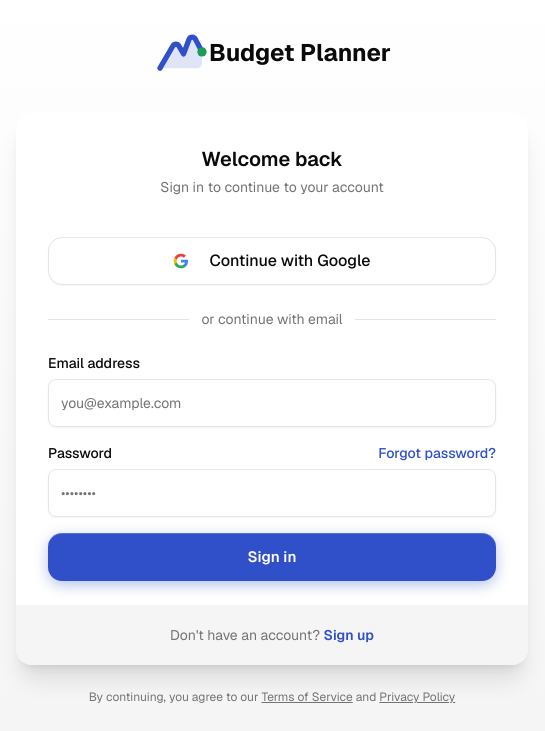
LoginPage — mode switching and resetForm › reveals signup-only fields when switching to signup
This screenshot has width=545, height=731.
Expected: the field labelled "First name" is not shown
Expected: the field labelled "Confirm password" is not shown
Click the button "Sign up": (349, 635) [324,625,374,645]
(page scrolled)
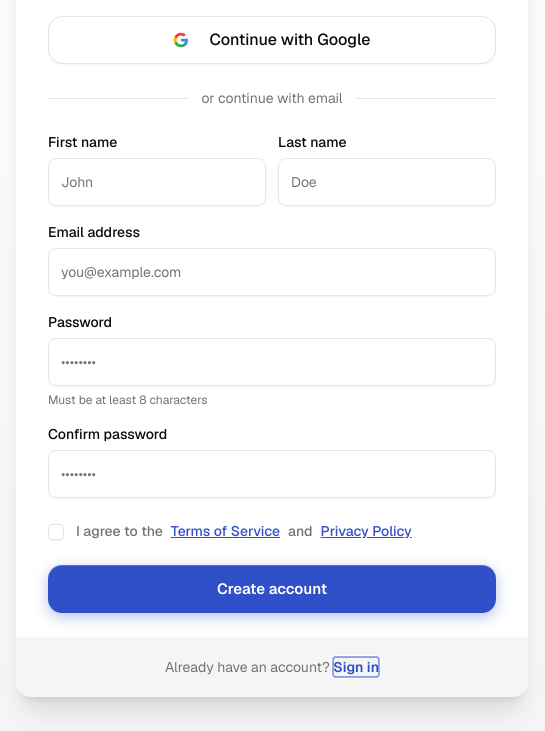
Now the field labelled "First name" is shown, box [48,158,266,206]
Now the field labelled "Last name" is shown, box [278,158,496,206]
Now the password field labelled "Confirm password" is shown, box [48,450,496,498]
